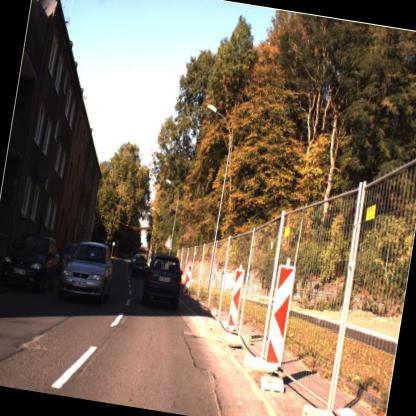danger: (158, 230, 176, 252)
